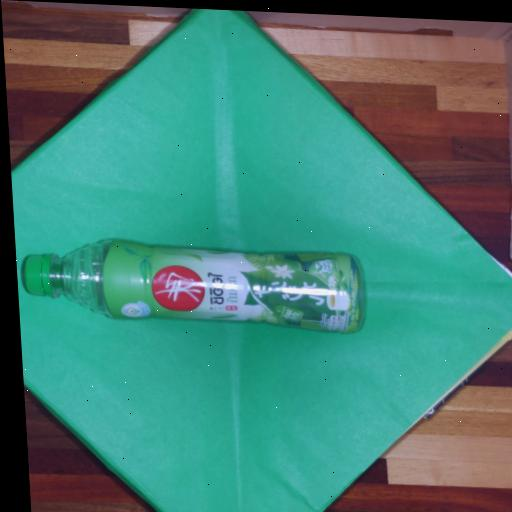bottle: (23, 239, 361, 331)
